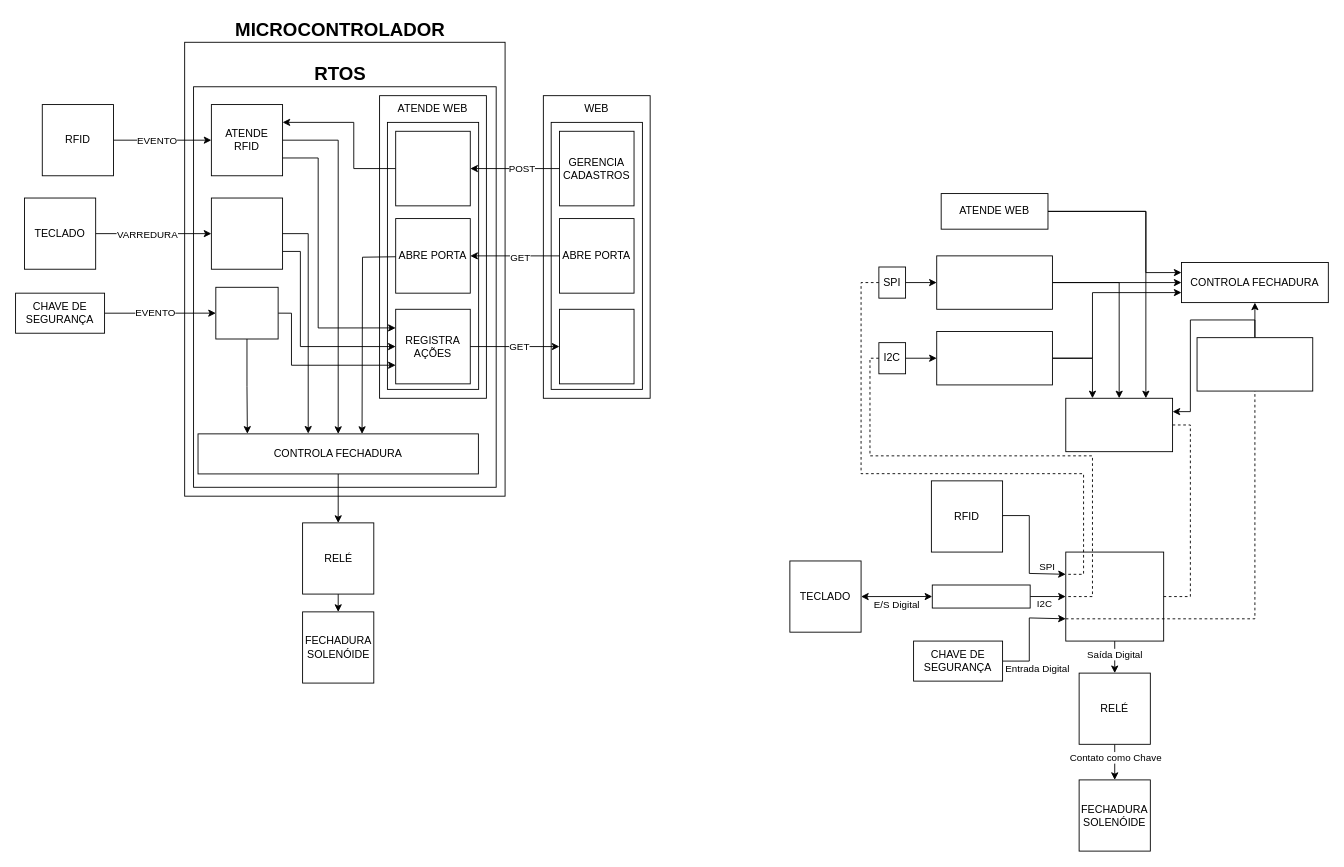
The diagram is 1344 pixels wide and 867 high, and some of its shapes have lost their labels. The centre of each missing label's shape, as x and y in pixels:
ARMAZENAMENTO: (x=1119, y=424)
ATENDE CHAVE: (x=246, y=312)
ATENDE TECLADO: (x=246, y=233)
ATUALIZA CADASTROS: (x=432, y=168)
EXPANSOR I2C: (x=980, y=596)
MONITOR: (x=596, y=346)
PROCESSA CARTÃO: (x=994, y=282)
PROCESSA CHAVE: (x=1254, y=364)
PROCESSA SENHA: (x=994, y=358)
μC: (x=1114, y=596)
